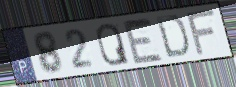2: (65, 27, 96, 71)
8: (32, 29, 64, 75)
D: (154, 14, 191, 60)
E: (120, 17, 166, 66)
F: (185, 7, 218, 58)
Q: (94, 22, 131, 67)
